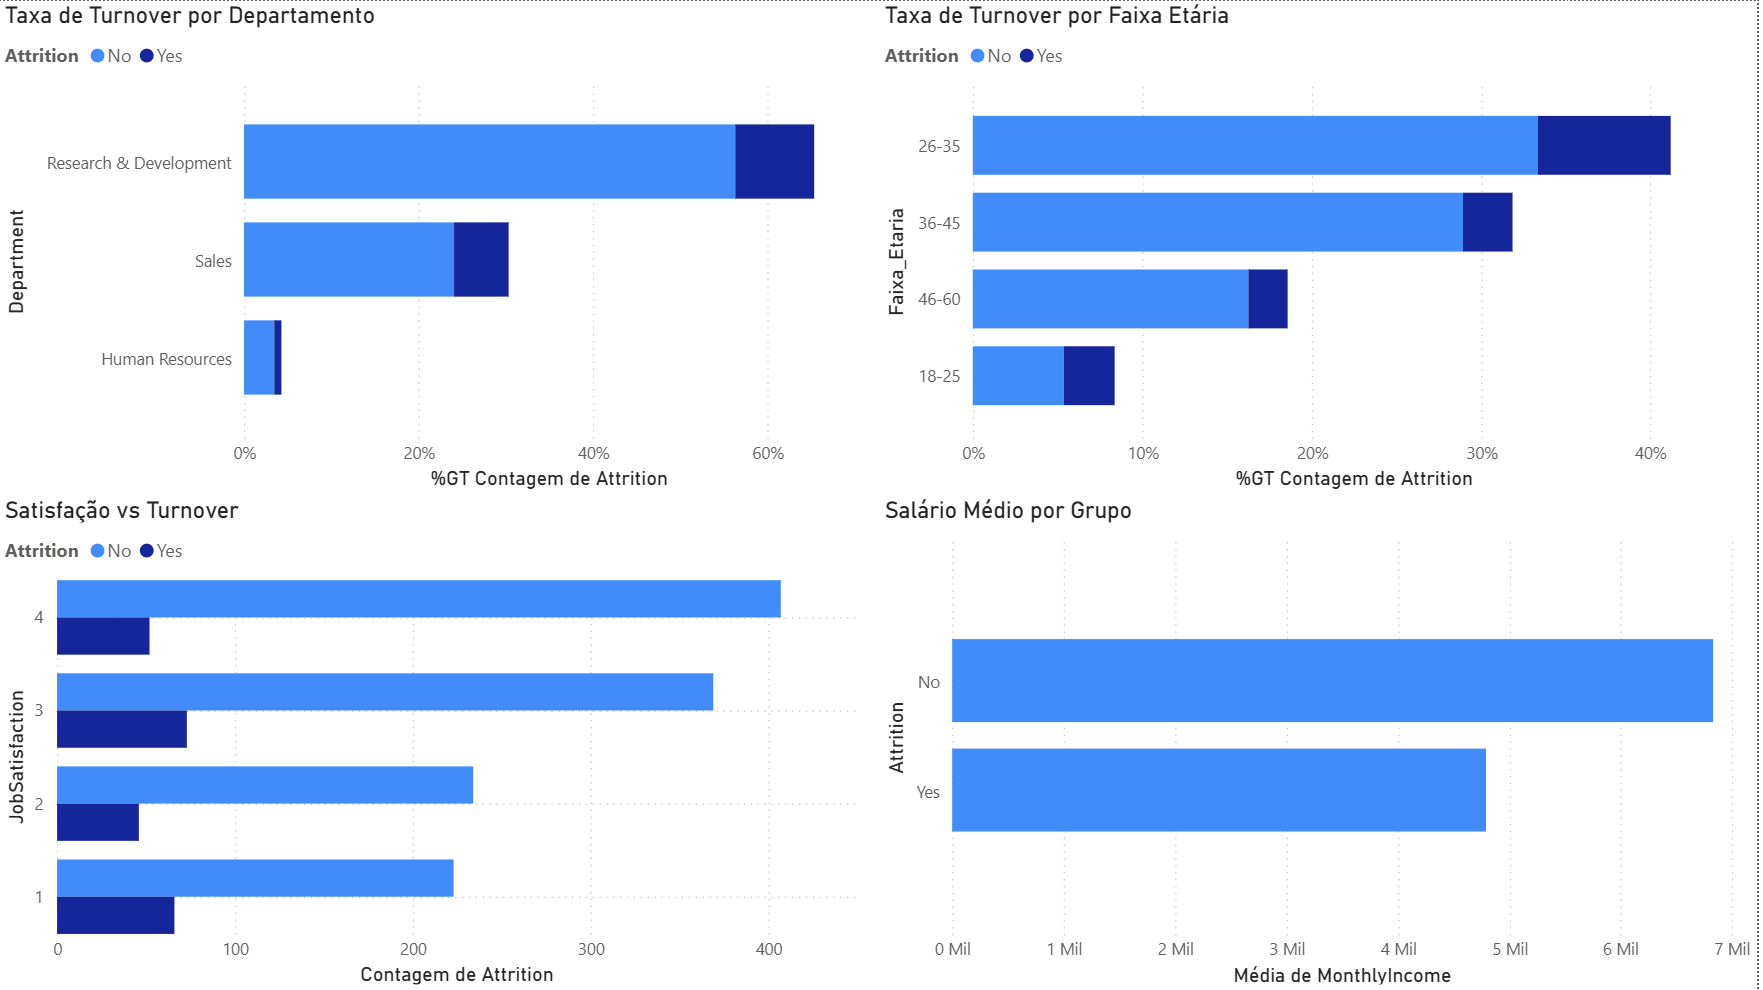

This screenshot's page, from the dashboard's own definition file:
{"tool":"powerbi","page":{"name":"Page 1","canvas":[1280,720],"ordinal":0},"visuals":[{"type":"barChart","fields":{"Category":["IBM HR Analytics.Department"],"Y":["CountNonNull(IBM HR Analytics.Attrition)"],"Series":["IBM HR Analytics.Attrition"]},"box":[10,0,578.8,416.2],"z":0},{"type":"clusteredBarChart","fields":{"Category":["IBM HR Analytics.Attrition"],"Y":["Avg(IBM HR Analytics.MonthlyIncome)"]},"box":[588.8,360,691.2,360],"z":1},{"type":"barChart","fields":{"Category":["IBM HR Analytics.Faixa_Etaria"],"Y":["CountNonNull(IBM HR Analytics.Attrition)"],"Series":["IBM HR Analytics.Attrition"]},"box":[640,0,640,346.2],"z":2},{"type":"clusteredBarChart","fields":{"Category":["IBM HR Analytics.JobSatisfaction"],"Y":["CountNonNull(IBM HR Analytics.Attrition)"],"Series":["IBM HR Analytics.Attrition"]},"box":[0,360,640,360],"z":3}]}

Visuals, with their boxes in screenshot pixels (x1, y1, x2, y2), scaled from the page's 1280x720 canvas onto the 1763x990 screenshot:
barChart - IBM HR Analytics.Department x CountNonNull(IBM HR Analytics.Attrition): locate(14, 0, 811, 572)
clusteredBarChart - IBM HR Analytics.Attrition x Avg(IBM HR Analytics.MonthlyIncome): locate(811, 495, 1762, 989)
barChart - IBM HR Analytics.Faixa_Etaria x CountNonNull(IBM HR Analytics.Attrition): locate(882, 0, 1762, 476)
clusteredBarChart - IBM HR Analytics.JobSatisfaction x CountNonNull(IBM HR Analytics.Attrition): locate(0, 495, 882, 989)
